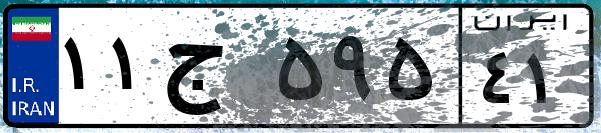1: (57, 26, 110, 100), (525, 38, 570, 115), (110, 28, 158, 98)
4: (475, 38, 525, 113)
5: (270, 28, 330, 110), (385, 28, 445, 110)
9: (330, 28, 385, 110)
ج: (158, 20, 270, 120)
